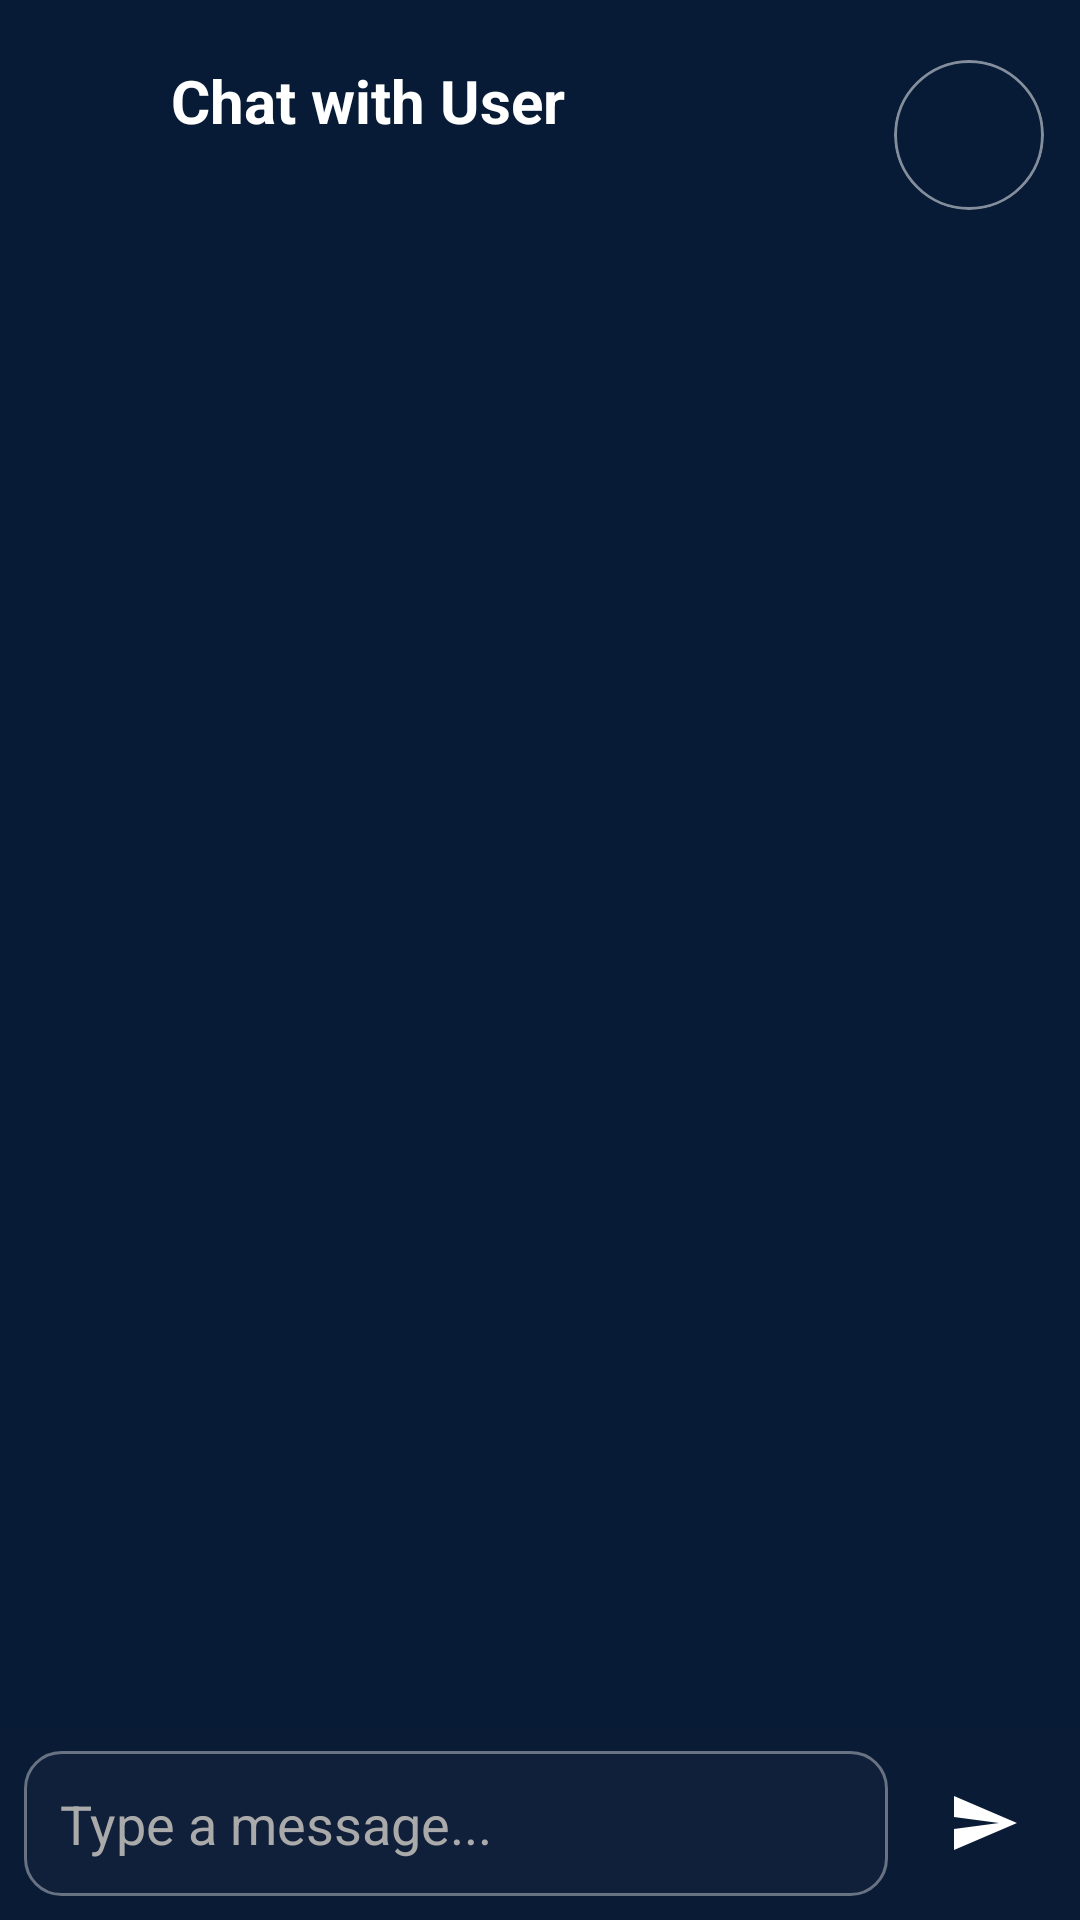

Screen size 1080x1920. Icon name, then its center in pixels as point (x, y):
Send: point (985, 1823)
